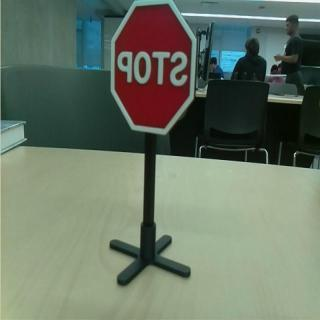sign_stop: (110, 3, 200, 137)
